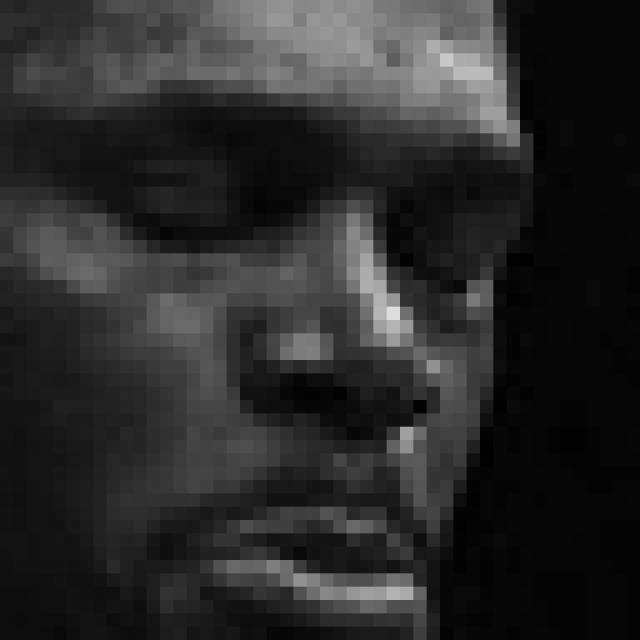sad: (50, 87, 515, 640)
